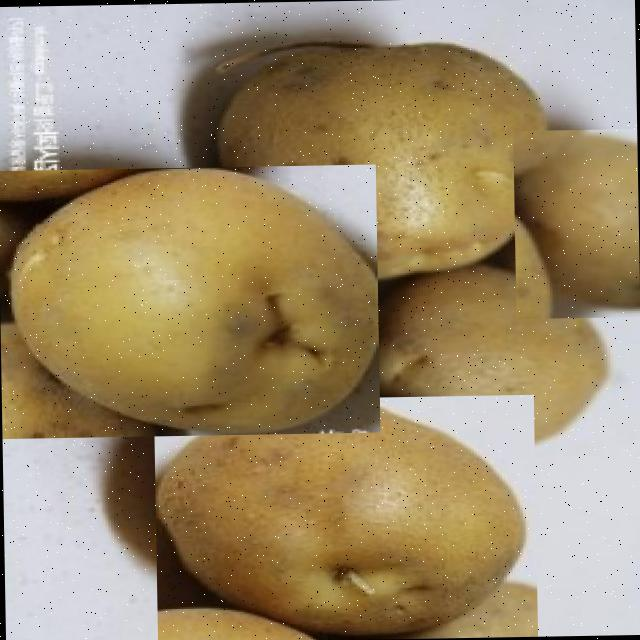Potato: (0, 163, 380, 438), (153, 393, 537, 640), (207, 24, 556, 286), (330, 242, 611, 464), (513, 128, 640, 318)
